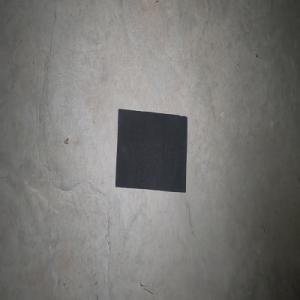PaintChip: (115, 108, 187, 193)
